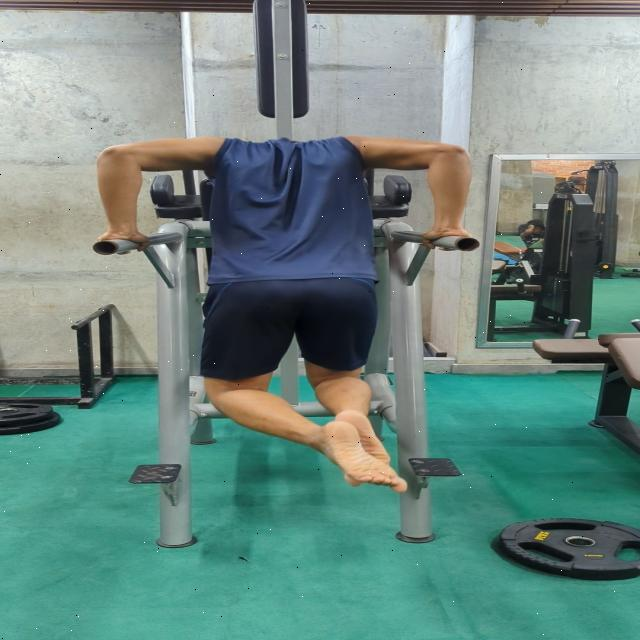Normal_Dips: (80, 125, 483, 497)
